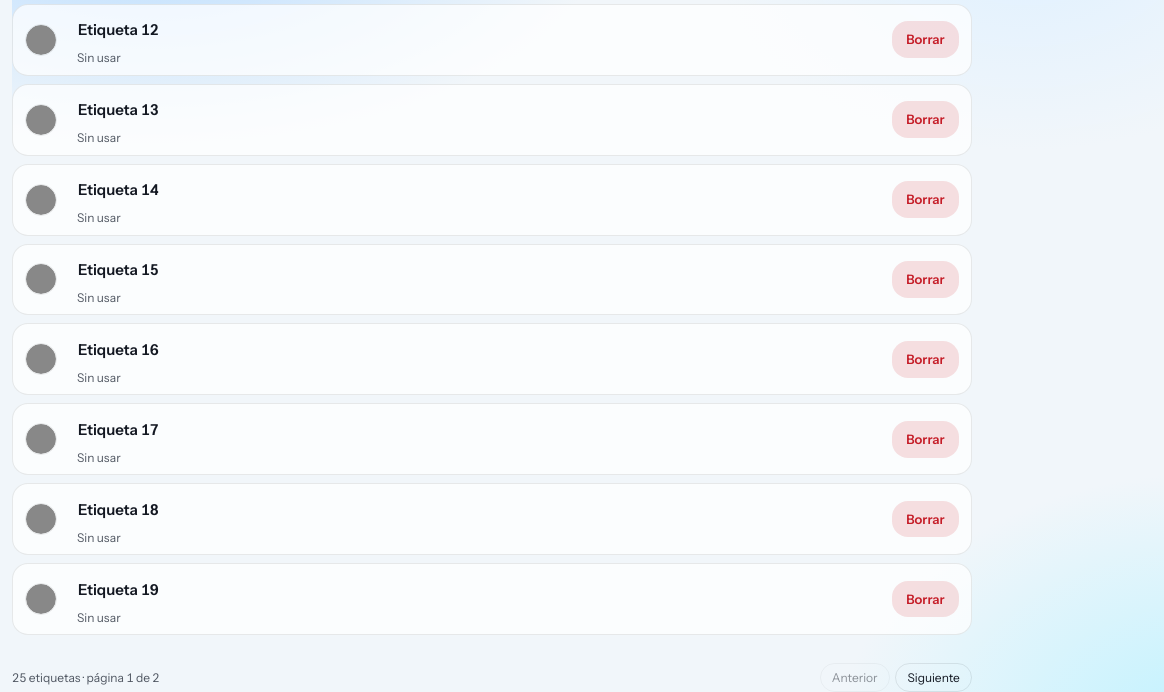
Etiquetas · buscar y paginar › a partir de 20 se parte en páginas
(page scrolled)
Expected: the text "25 etiquetas · página 1 de 2" is shown, [12, 669, 160, 686]
Expected: the field showing "Etiqueta 20" is not shown
Click the button "Siguiente".
click(934, 678)  # box [895, 663, 972, 691]
(page scrolled)
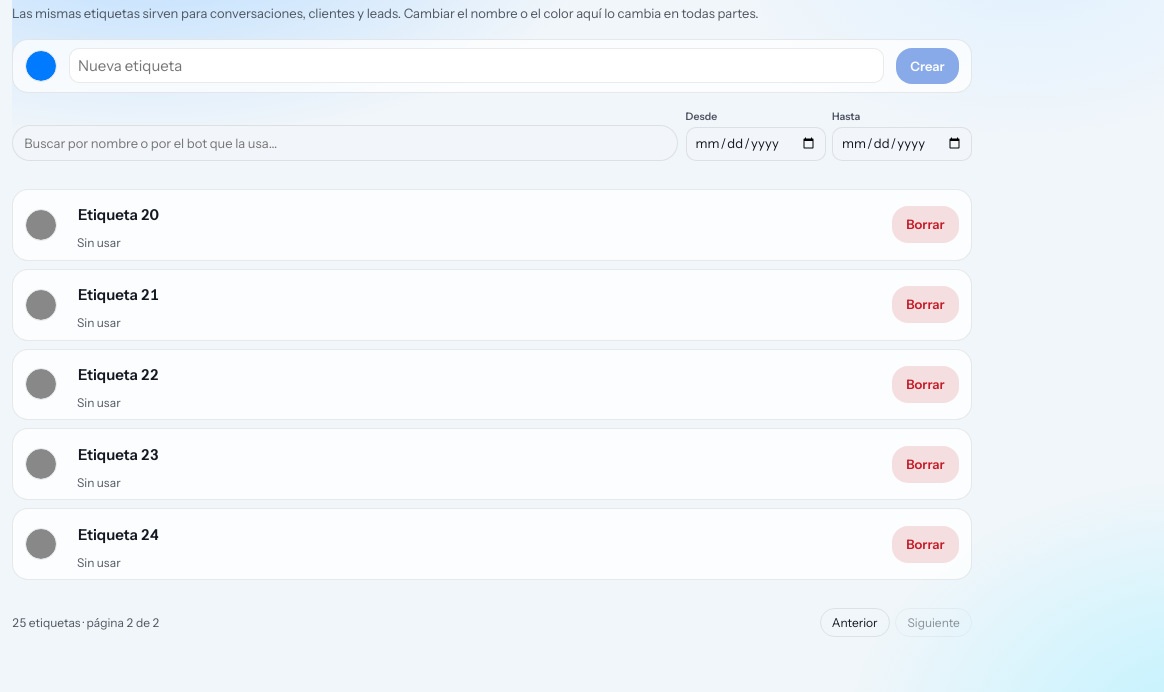
Now the field showing "Etiqueta 20" is shown, box [69, 198, 880, 233]
